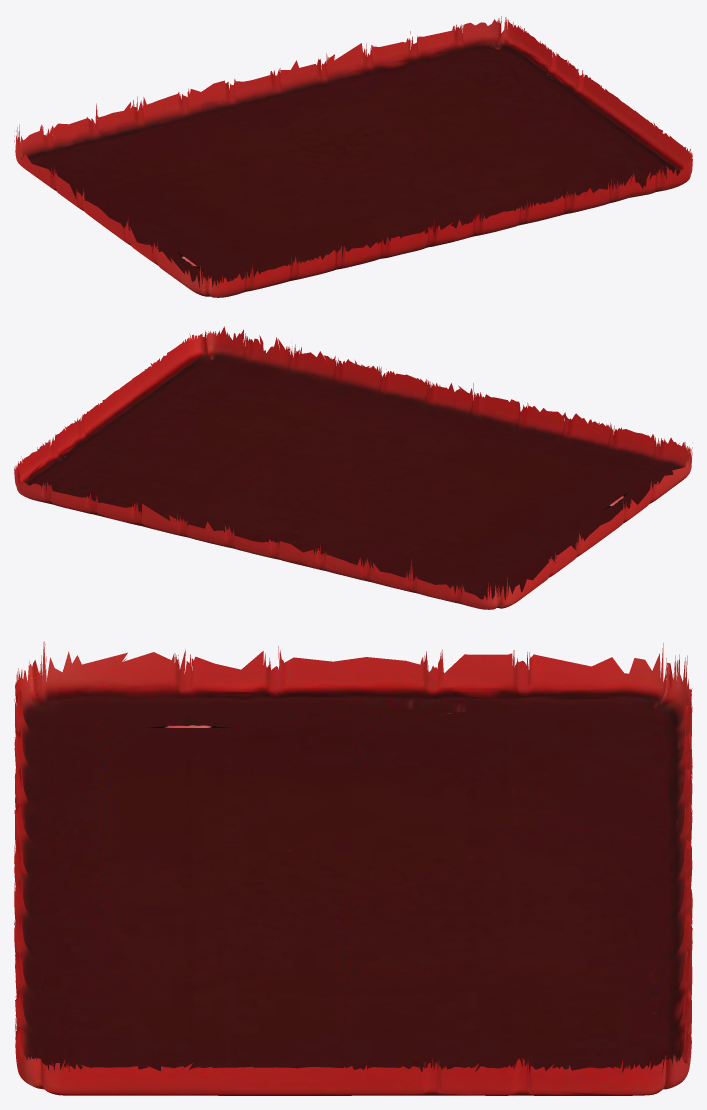
3 renders of one model, top to bottom at view 1: azimuth 30°, elevation 25°; view 2: azimuth 150°, elevation 25°; view 3: azimuth 270°, elevation 25°, orthographic. The views are drawn at different scales.
Visible parts, largest first — view 1: box-base; view 2: box-base; view 3: box-base.
Part boxes in pixels (bbox=[...]): box-base: bbox=[14, 16, 692, 297]; box-base: bbox=[14, 326, 692, 609]; box-base: bbox=[14, 641, 692, 1095].
Size of the model in its own units: 0.5755 by 0.0423 by 0.4038.
1 material, 1 textured.
